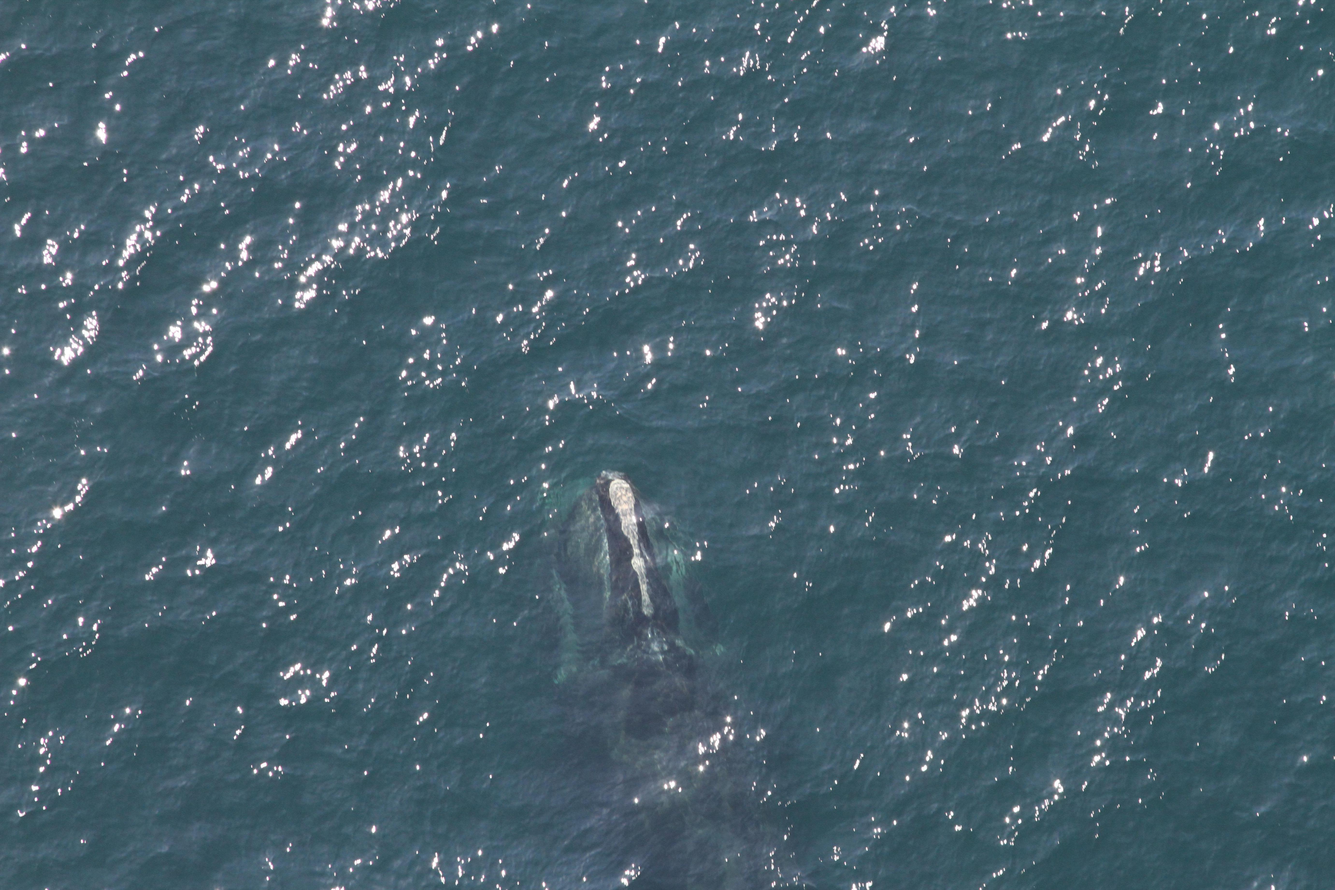whale: (538, 462, 857, 890)
